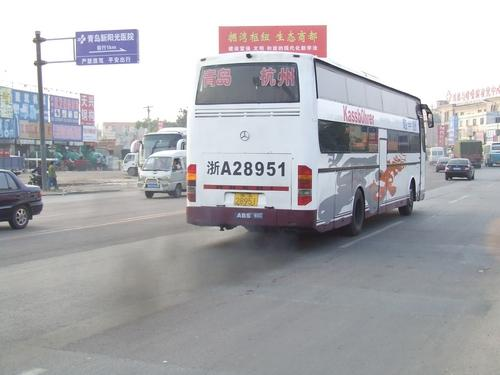smoke: (122, 228, 297, 300)
